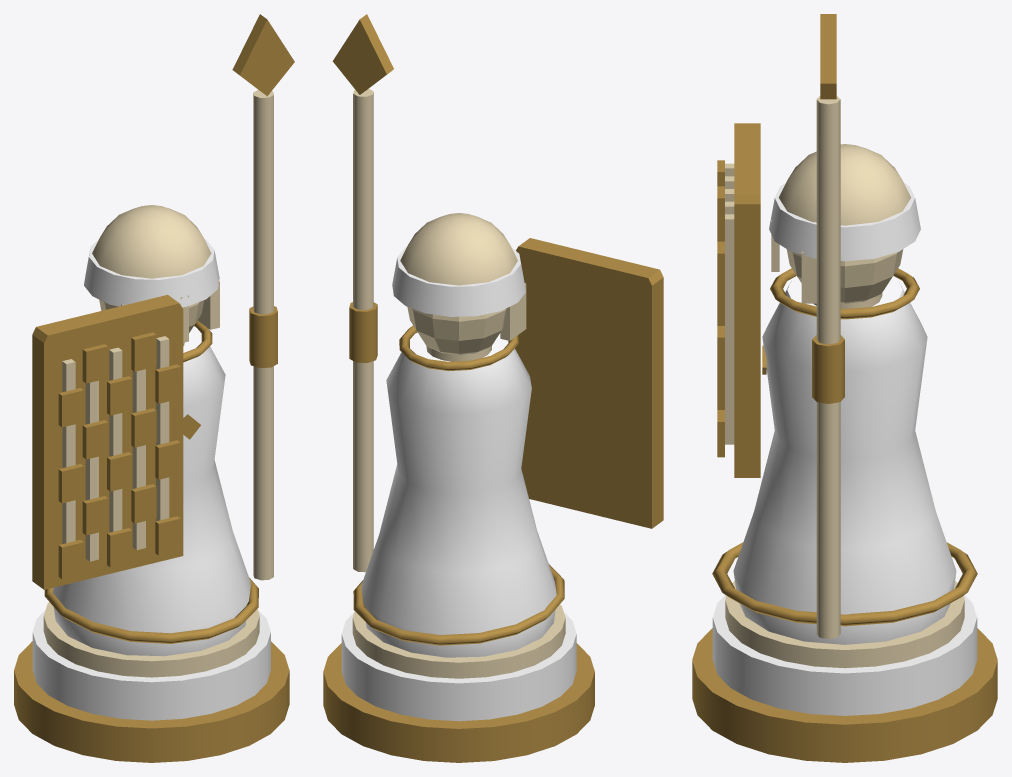
Rendered from sparabara.glb.
3 views of the same model, side by side, from view 1: azimuth 30°, elevation 25°; view 2: azimuth 150°, elevation 25°; view 3: azimuth 270°, elevation 25° (orthographic). The views are drawn at different scales.
Parts seen in each view (by area): view 1: Turned enamel robe, Tall wicker shield, Alternating hide and wood (×15), Trim plinth, Enamel base, Spear wall ivory shaft, Willow ribs (×5), Steel helmet dome, Ivory base bead, Owner brow band, Spear wall gilt leaf point, Trim hem (+3 smaller); view 2: Turned enamel robe, Tall wicker shield, Trim plinth, Enamel base, Spear wall ivory shaft, Steel helmet dome, Ivory base bead, Owner brow band, Faceted ivory face, Trim hem, Spear wall gilt leaf point, Spear wall gilt grip (+2 smaller); view 3: Turned enamel robe, Trim plinth, Enamel base, Spear wall ivory shaft, Tall wicker shield, Ivory base bead, Steel helmet dome, Owner brow band, Trim hem, Faceted ivory face, Willow ribs, Spear wall gilt grip (+3 smaller).
Boxes of the visible parts, box(x1,y1,x2,y2) form: Turned enamel robe: box(52, 345, 250, 656); Tall wicker shield: box(32, 294, 183, 589); Alternating hide and wood (×15): box(58, 332, 180, 579); Trim plinth: box(14, 641, 289, 762); Enamel base: box(32, 610, 270, 720); Spear wall ivory shaft: box(253, 89, 273, 580); Willow ribs (×5): box(62, 336, 169, 561); Steel helmet dome: box(92, 205, 211, 278); Ivory base bead: box(43, 602, 259, 677); Owner brow band: box(84, 239, 219, 307); Spear wall gilt leaf point: box(232, 14, 294, 96); Trim hem: box(44, 577, 258, 643); Turned enamel robe: box(361, 348, 556, 657); Tall wicker shield: box(515, 238, 663, 528); Trim plinth: box(323, 643, 594, 762); Enamel base: box(341, 612, 576, 721); Spear wall ivory shaft: box(353, 88, 373, 572); Steel helmet dome: box(400, 213, 517, 285); Ivory base bead: box(352, 604, 565, 678); Owner brow band: box(392, 247, 525, 316); Faceted ivory face: box(407, 307, 506, 355); Trim hem: box(353, 564, 564, 645); Spear wall gilt leaf point: box(332, 14, 393, 94); Spear wall gilt grip: box(349, 302, 377, 362); Turned enamel robe: box(733, 282, 956, 644); Trim plinth: box(692, 628, 997, 762); Enamel base: box(712, 595, 977, 715); Spear wall ivory shaft: box(816, 96, 840, 639); Tall wicker shield: box(734, 123, 760, 477); Ivory base bead: box(725, 581, 964, 668); Steel helmet dome: box(778, 144, 911, 225); Owner brow band: box(769, 183, 920, 261); Trim hem: box(712, 542, 977, 626); Faceted ivory face: box(786, 249, 903, 303); Willow ribs: box(725, 214, 734, 444); Spear wall gilt grip: box(812, 335, 844, 403).
Bounding box in the file's own units: 0.5691 × 1.25 × 0.4689.
